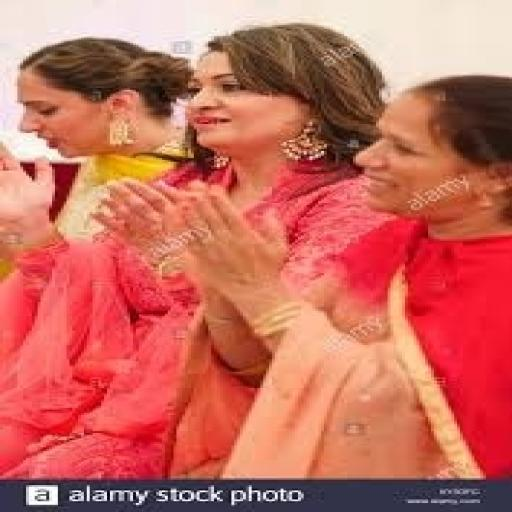clapping: (93, 72, 509, 480), (0, 34, 202, 477)
